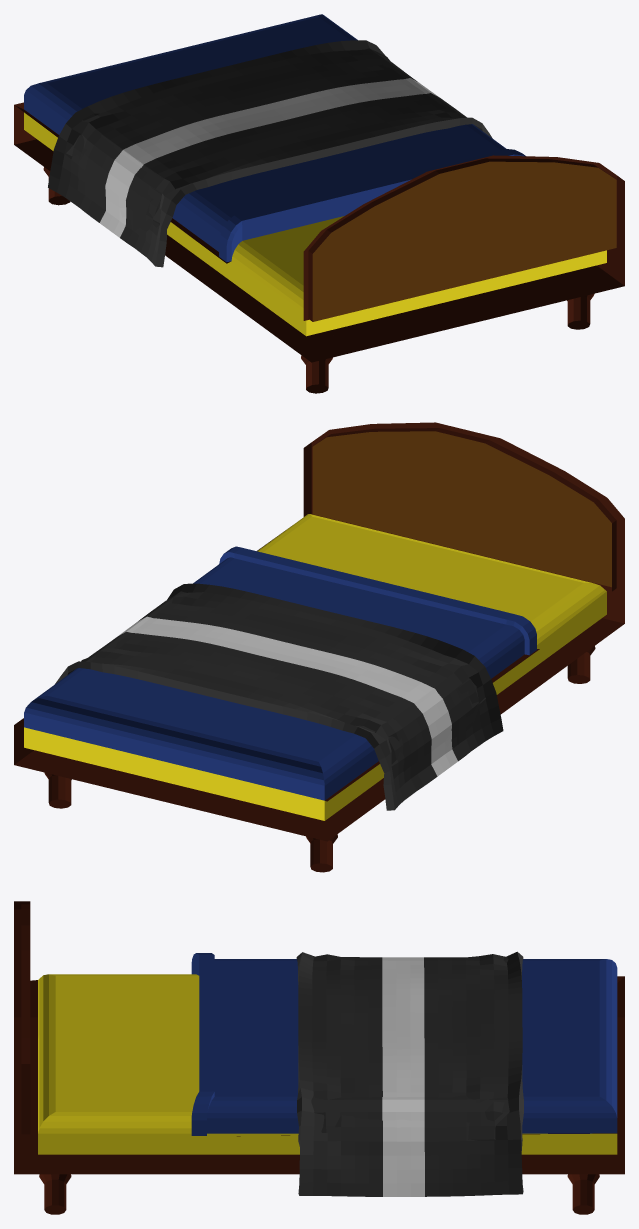
The model's file is Bed 1.fbx.
3 views of the same model, one above another, from view 1: azimuth 30°, elevation 25°; view 2: azimuth 150°, elevation 25°; view 3: azimuth 270°, elevation 25° (orthographic). The views are drawn at different scales.
Parts seen in each view (by area): view 1: Object; view 2: Object; view 3: Object.
Part boxes in pixels (x1,y1,x2,y2): Object: (14, 14, 624, 393); Object: (14, 422, 624, 872); Object: (14, 901, 624, 1214).
Bounding box in the file's own units: 3.6 × 1.35 × 2.45.
